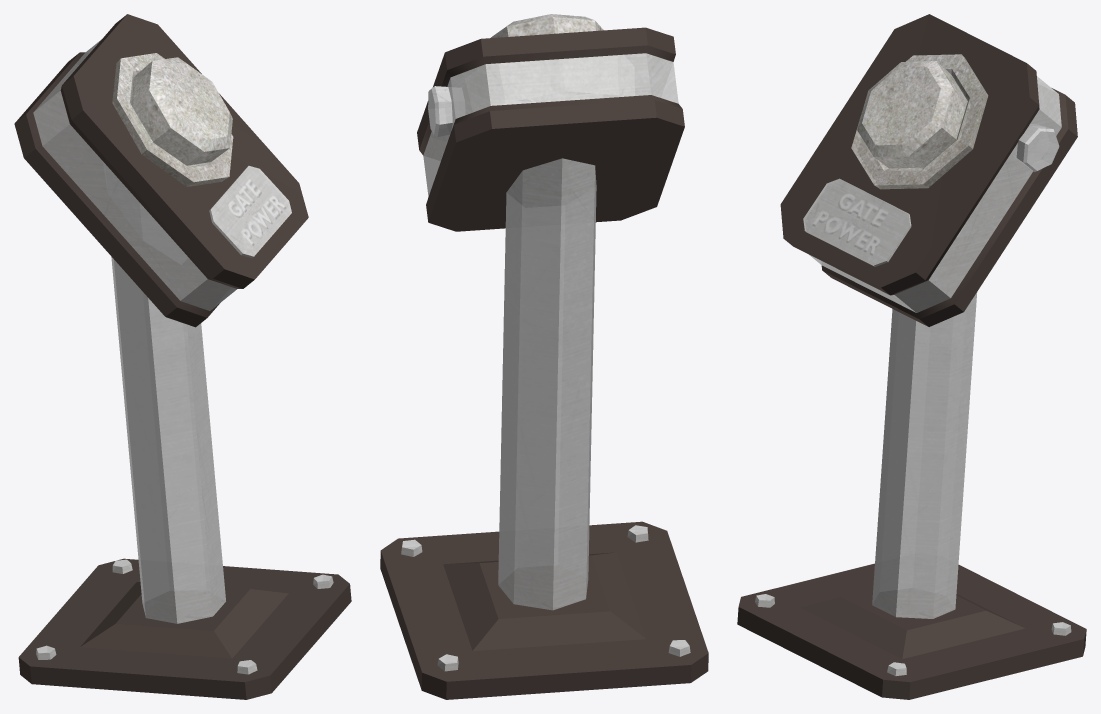
Rendered from button_the_mines.glb.
The picture shows the model from 3 angles, left to right: view 1: azimuth 30°, elevation 25°; view 2: azimuth 150°, elevation 25°; view 3: azimuth 270°, elevation 25°; orthographic projection. The views are drawn at different scales.
Visible parts, largest first — view 1: Object_9, Object_8, Object_4, Object_6, Object_5, Object_7, Object_2; view 2: Object_9, Object_8, Object_4, Object_2; view 3: Object_9, Object_8, Object_4, Object_6, Object_5, Object_7, Object_2.
Boxes of the visible parts, x1,y1,x2,y2 form: Object_9: (14, 14, 351, 699); Object_8: (33, 40, 236, 623); Object_4: (131, 57, 232, 168); Object_6: (209, 166, 291, 258); Object_5: (112, 53, 233, 186); Object_7: (228, 179, 285, 245); Object_2: (36, 559, 333, 674); Object_9: (380, 27, 708, 699); Object_8: (423, 53, 678, 610); Object_4: (490, 14, 603, 38); Object_2: (401, 525, 690, 671); Object_9: (737, 14, 1086, 699); Object_8: (809, 76, 1061, 618); Object_4: (857, 61, 967, 170); Object_6: (803, 178, 911, 266); Object_5: (851, 54, 988, 189); Object_7: (813, 193, 888, 254); Object_2: (755, 594, 1071, 675).
Size of the model in its own units: 2.27 by 4.18 by 2.27.
8 materials, 7 textured.
